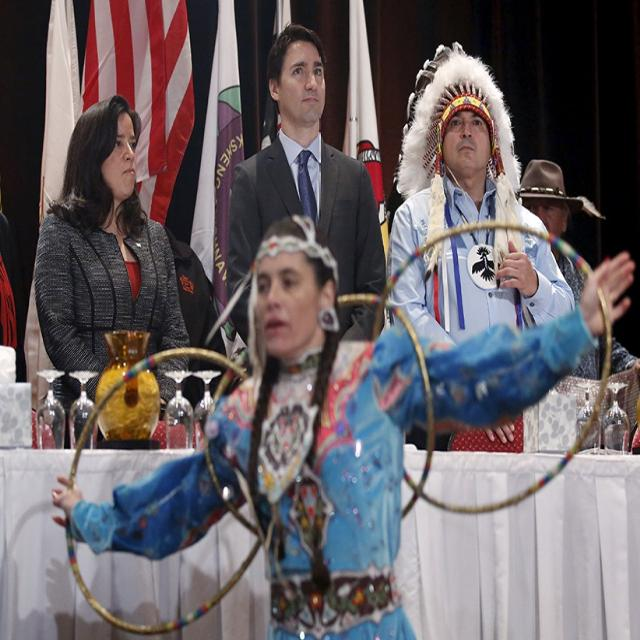body: (47, 215, 639, 639), (383, 39, 578, 454), (222, 24, 388, 351), (36, 94, 192, 421), (514, 156, 606, 380)
